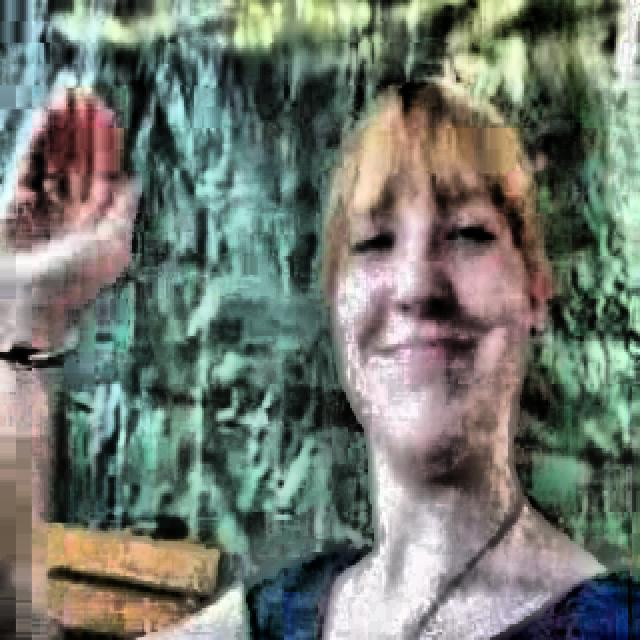T: (8, 71, 639, 635)
